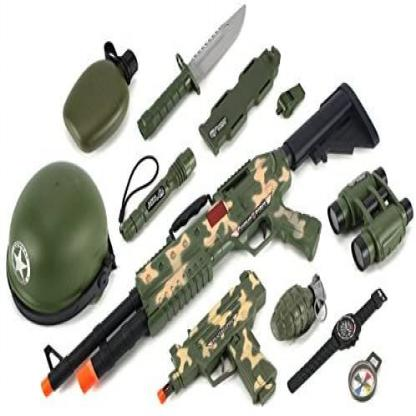Grenade: (270, 272, 327, 342)
Gun: (41, 81, 380, 398), (157, 268, 278, 408)
Knife: (136, 2, 247, 143)
